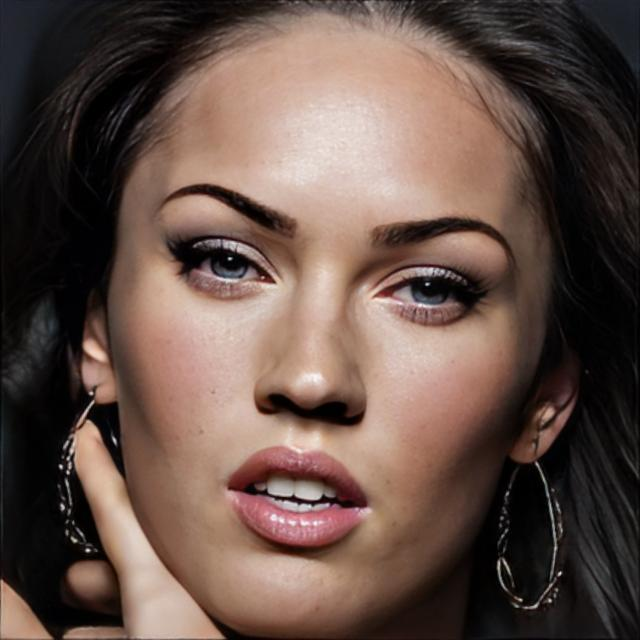surprise: (103, 0, 558, 640)
